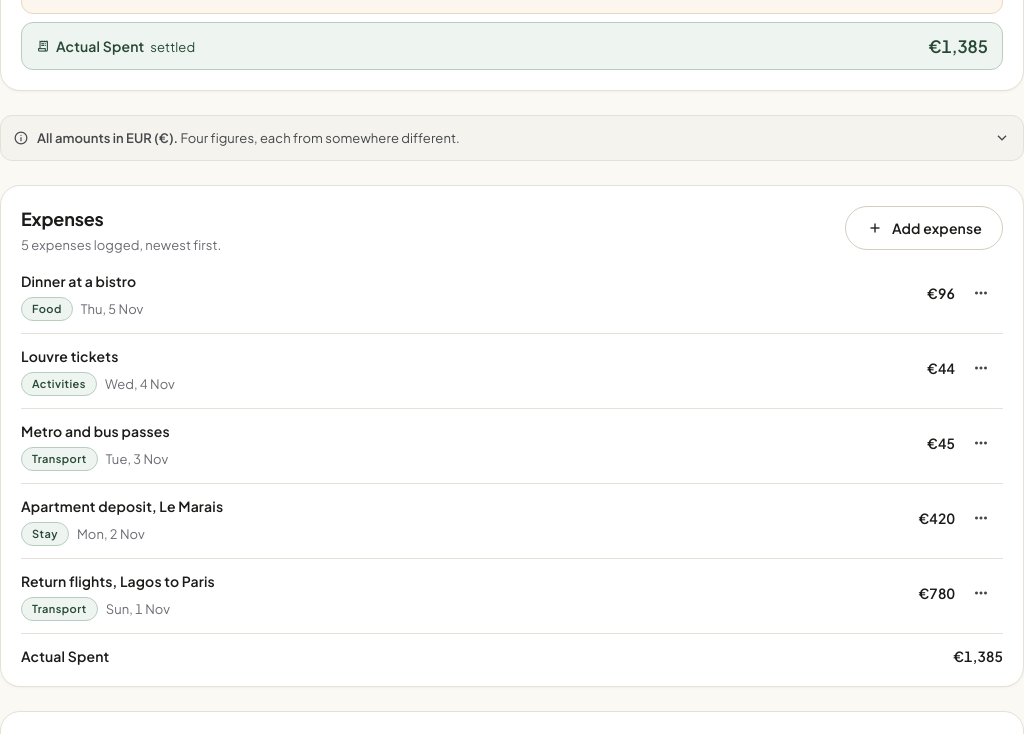
BudgetPage › correcting an expense › opens the entry with its stored values and saves a correction
(page scrolled)
Click the button without text in the row of "Louvre tickets" at (981, 368), box [959,346,1003,390]
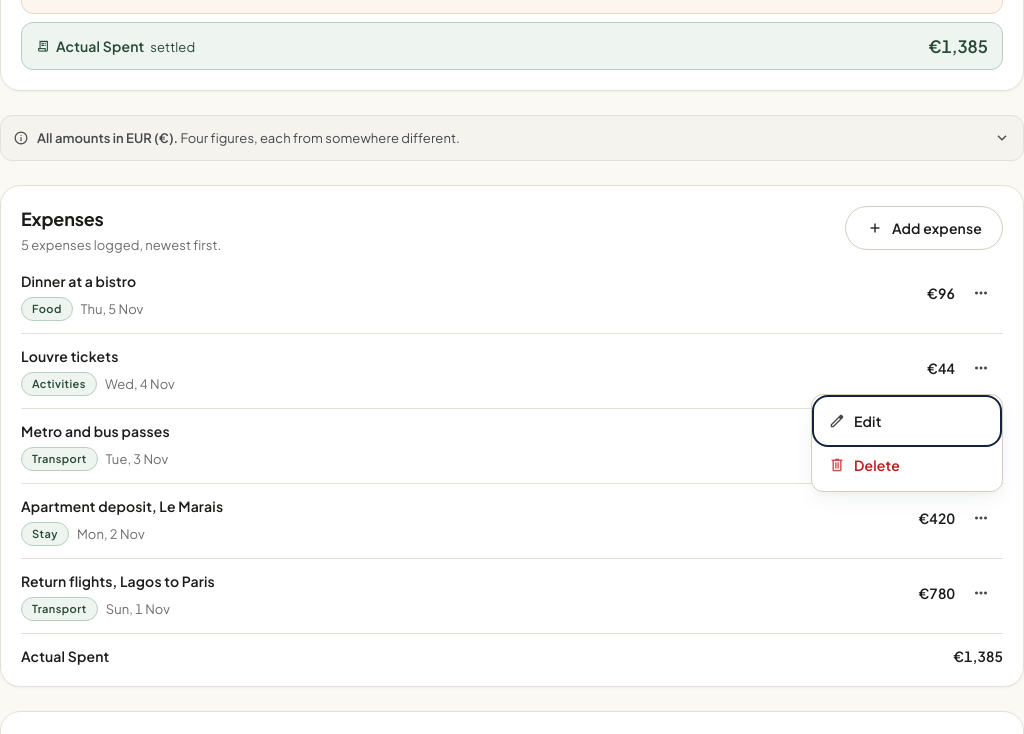
Click the menu item "Edit" at (907, 421), box [816,399,998,443]
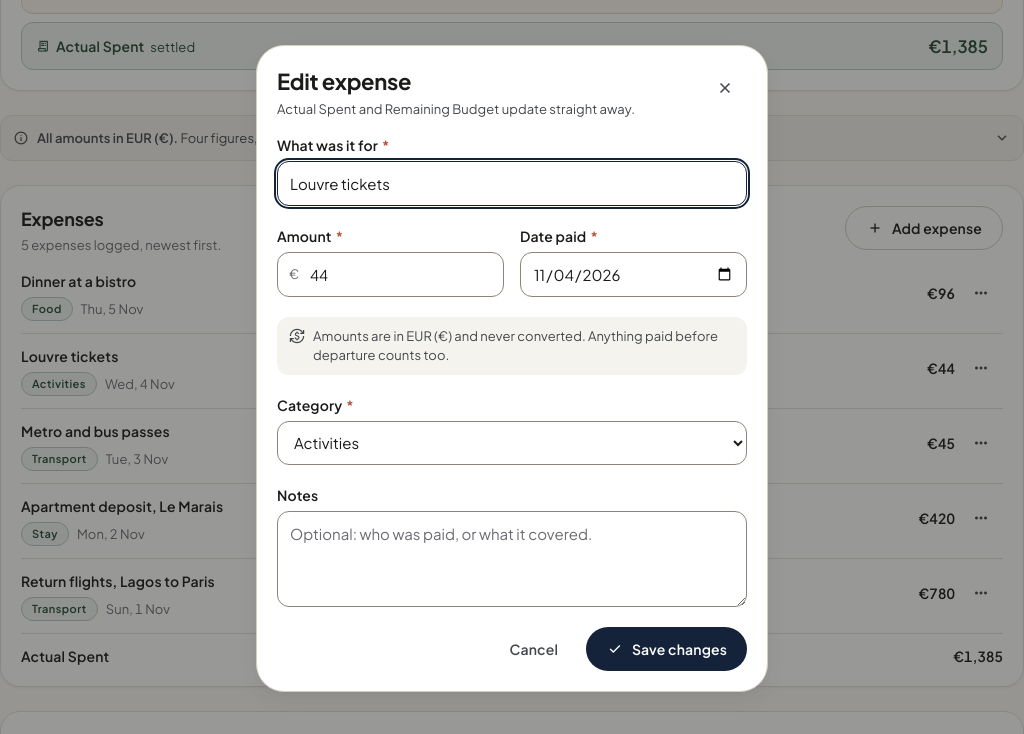
Check: the field labelled "What was it for*" holds "Louvre tickets", box [277,160,747,206]
Check: the number field labelled "Amount*" holds "44"
Check: the dropdown labelled "Category*" shows "Activities", box [277,420,747,464]
Replace the text in the number field labelled "Amount*" with "60" at (390, 274), box [277,252,504,296]
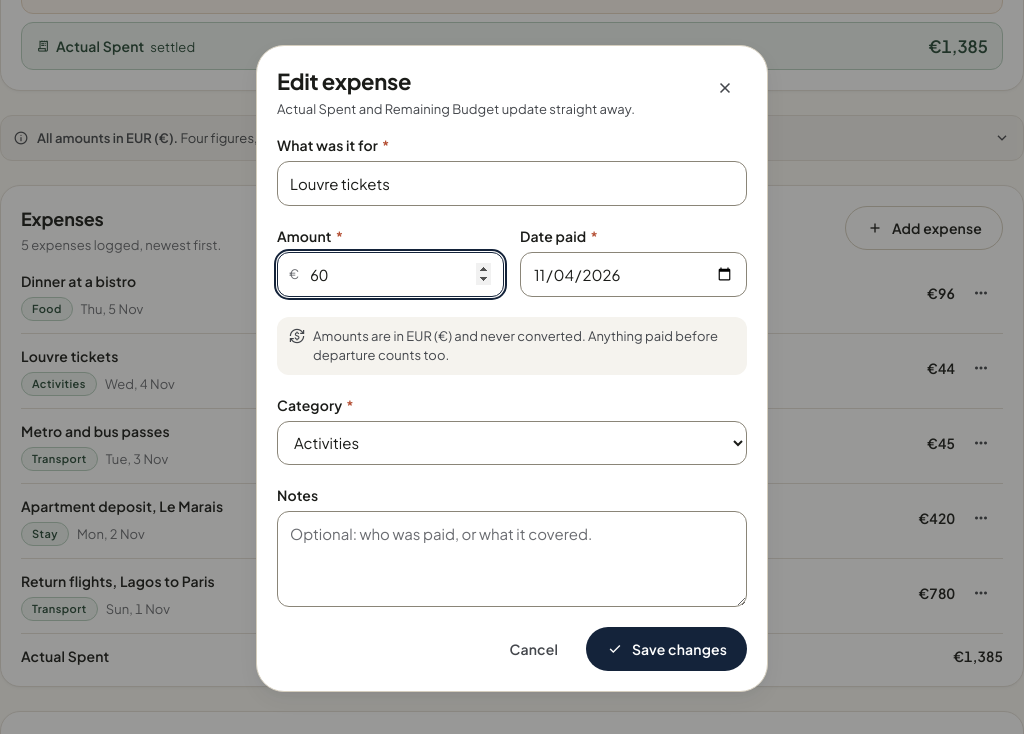
Click the button "Save changes" at (666, 648), box [586,626,747,670]
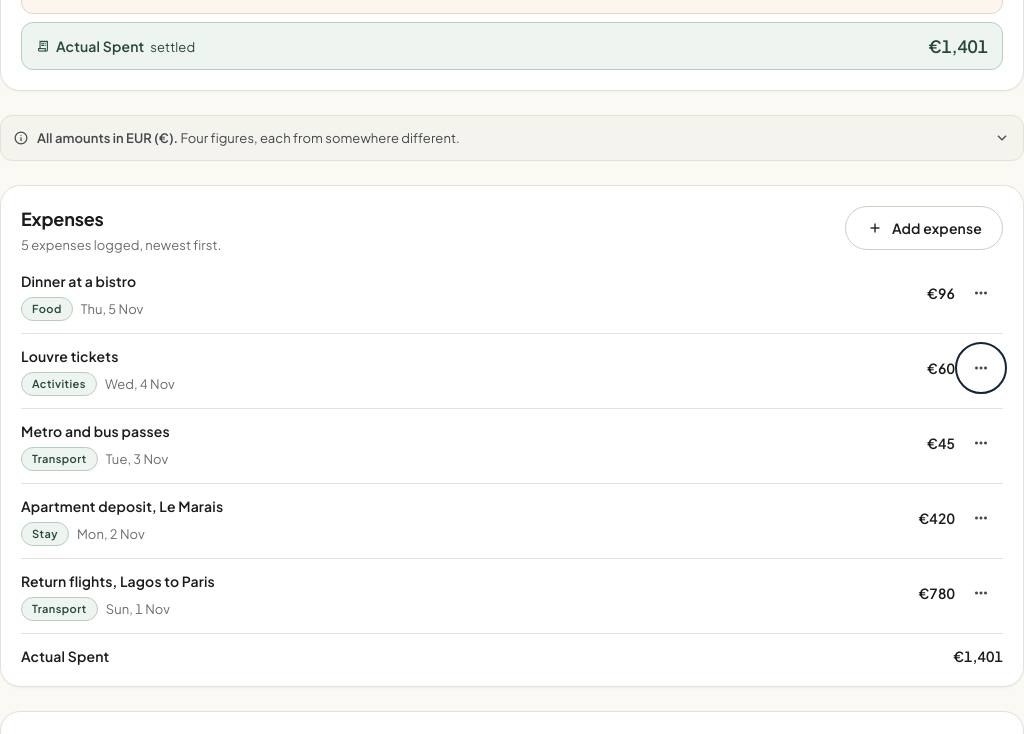
Check: the heading "Edit expense" is gone
Check: the text "Actual Spent" shows "€1,401", box [928,35,988,57]
